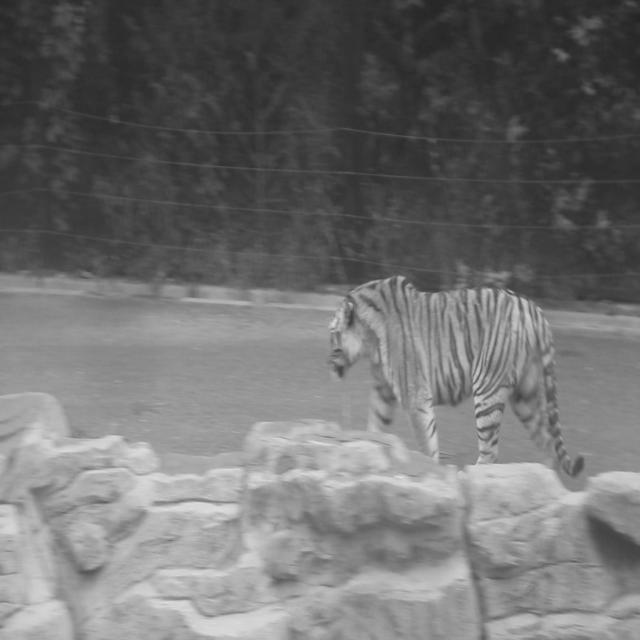Tiger: (325, 272, 585, 478)
